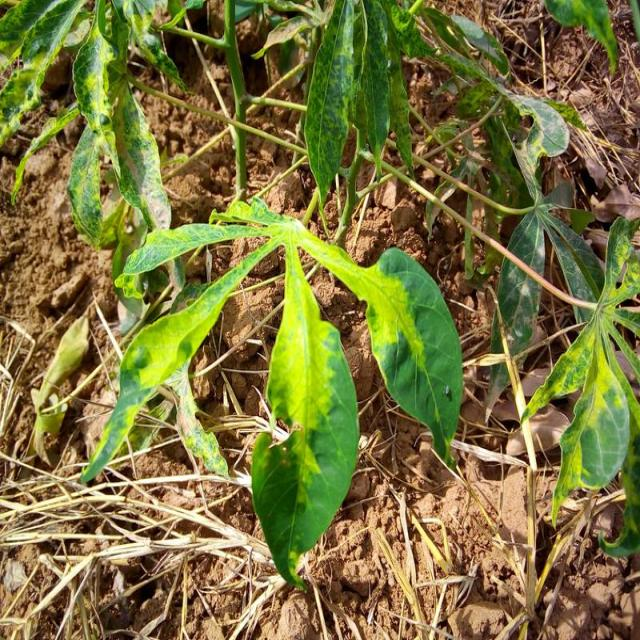Mosaico: (143, 181, 460, 497), (565, 203, 640, 516)
